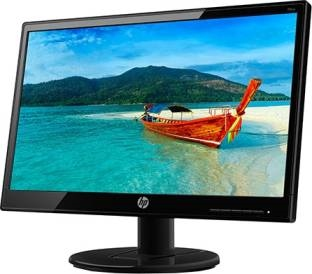hp-monitor-19ka: (1, 1, 311, 273)
